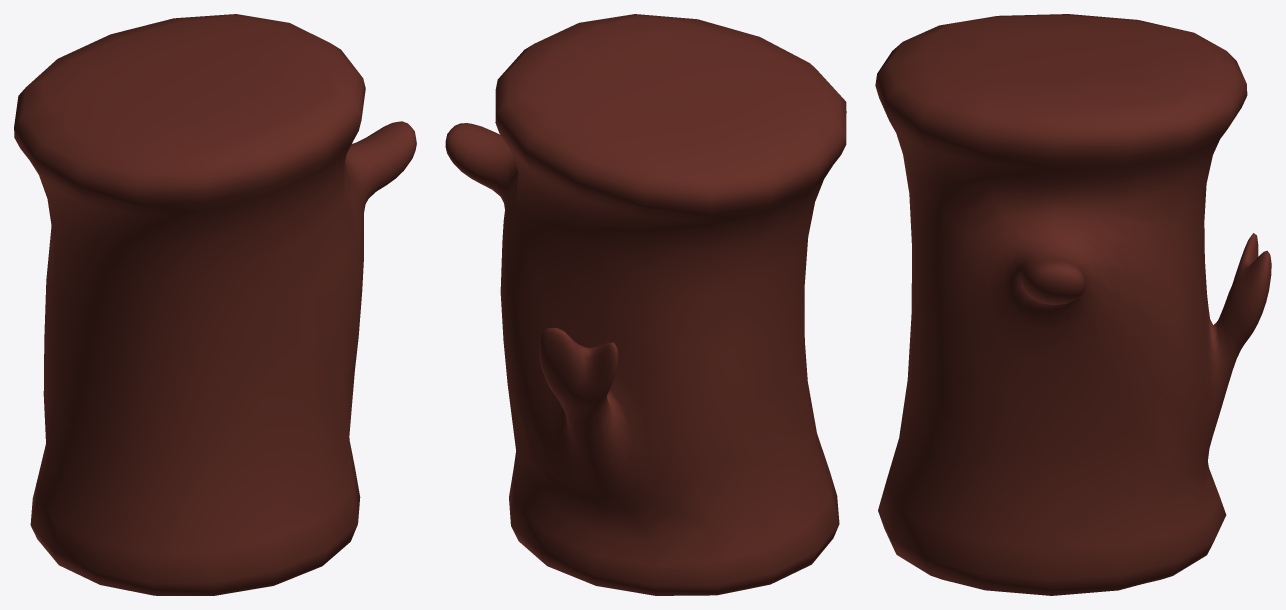
The model's file is log-3.fbx.
3 renders of one model, left to right at view 1: azimuth 30°, elevation 25°; view 2: azimuth 150°, elevation 25°; view 3: azimuth 270°, elevation 25°, orthographic. The views are drawn at different scales.
Parts seen in each view (by area): view 1: log-3; view 2: log-3; view 3: log-3.
Part boxes in pixels (x1=…): log-3: x1=14, y1=14, x2=416, y2=595; log-3: x1=445, y1=14, x2=846, y2=595; log-3: x1=875, y1=14, x2=1271, y2=595.
Size of the model in its own units: 238 by 288 by 206.
